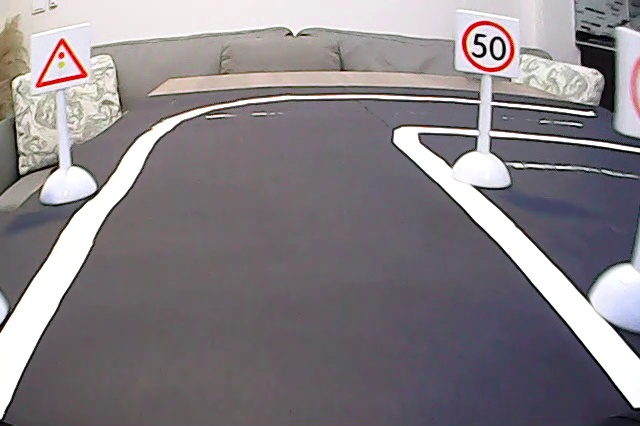red light: (30, 35, 90, 89)
speed limit 50: (460, 10, 519, 75)
